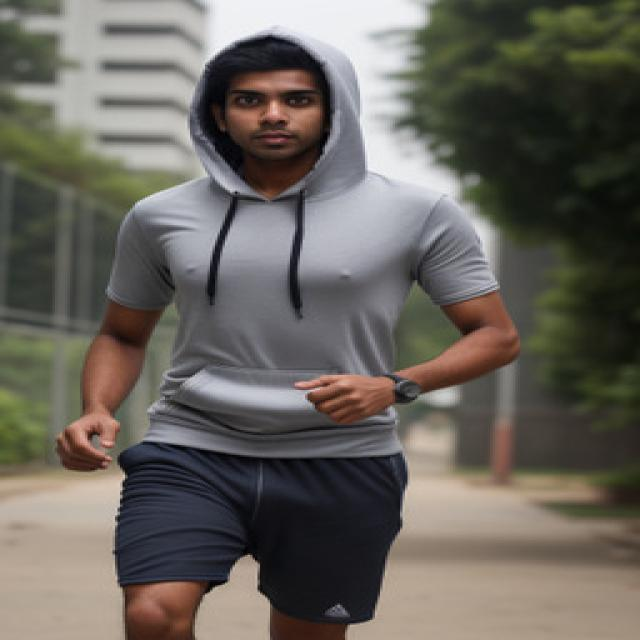Ai human 2: (30, 26, 523, 640)
